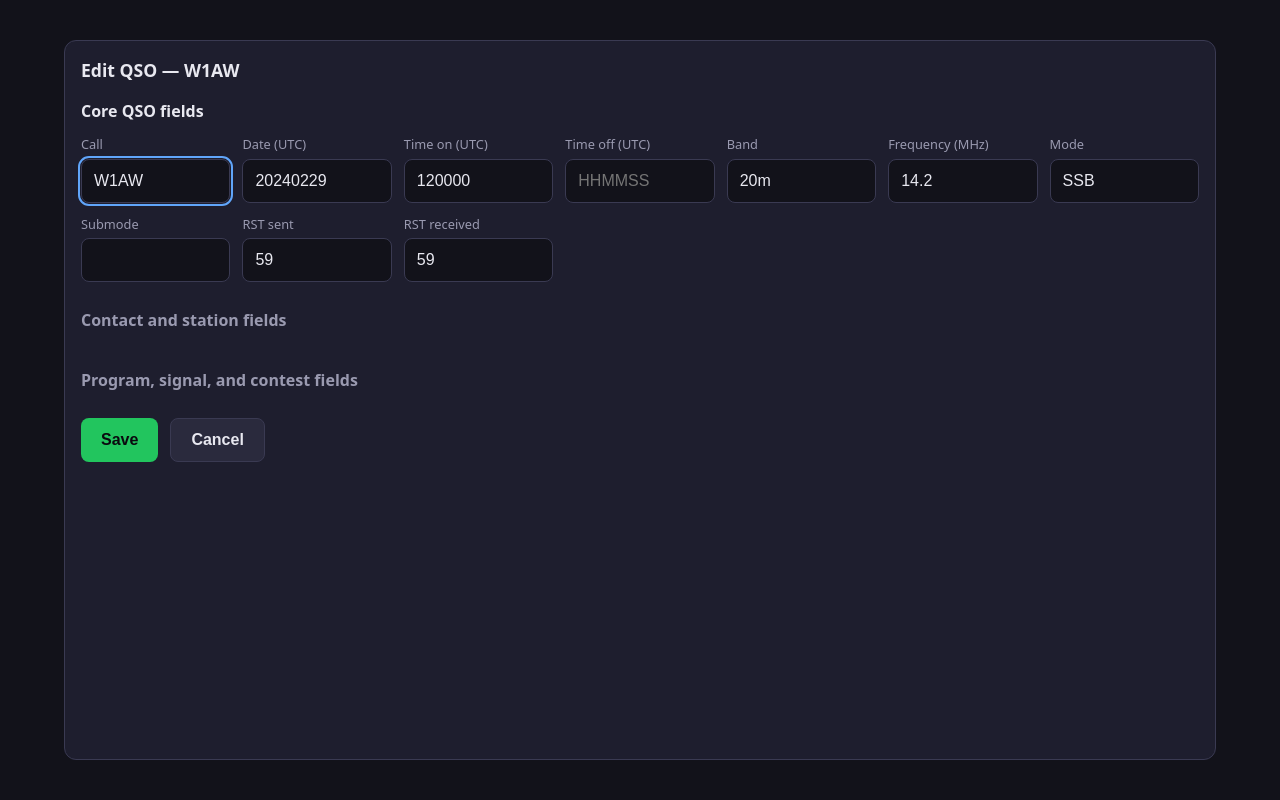
EditQsoModal › blocks invalid edits, retains values, and focuses the first error
Replace the text in the field labelled "Date (UTC)" with "20230229". click: [317, 181]
box: [242,159,392,203]
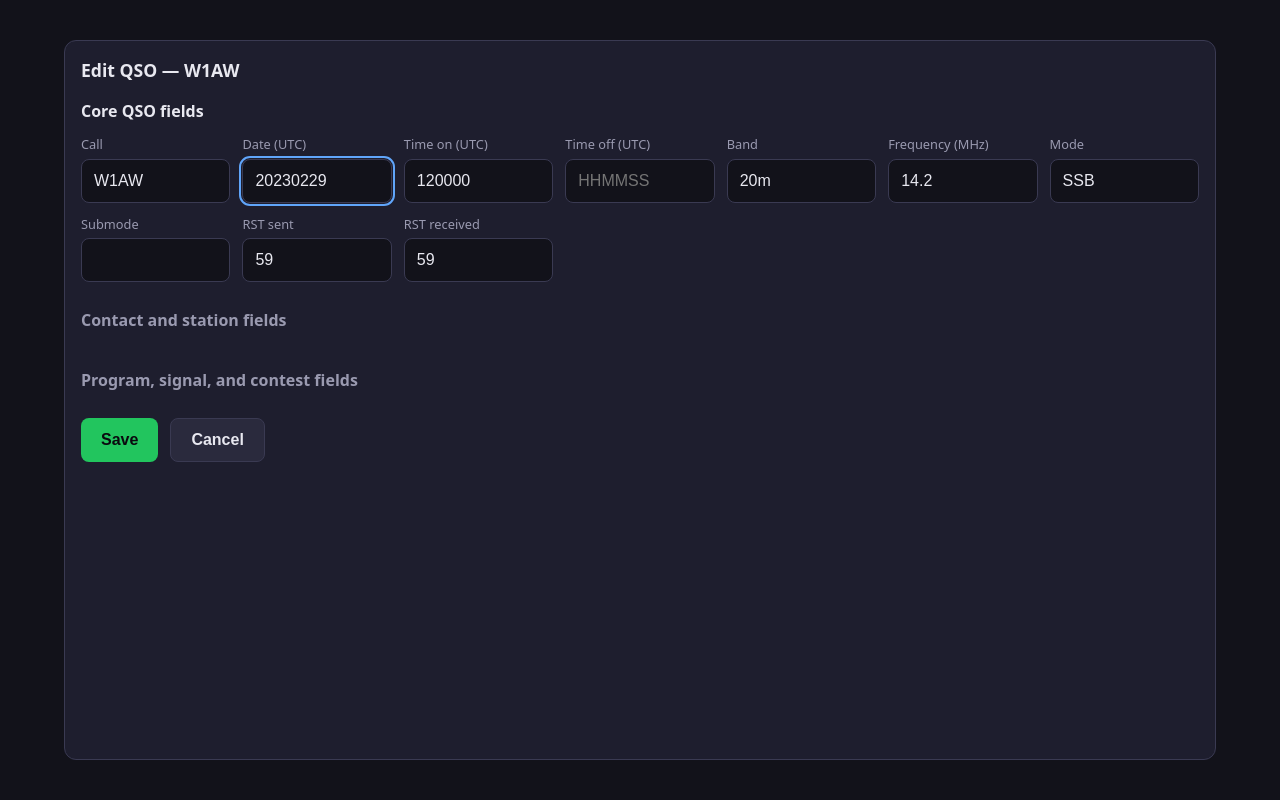
Replace the text in the number field labelled "Frequency (MHz)" with "0". click: [963, 181]
box: [888,159,1038,203]
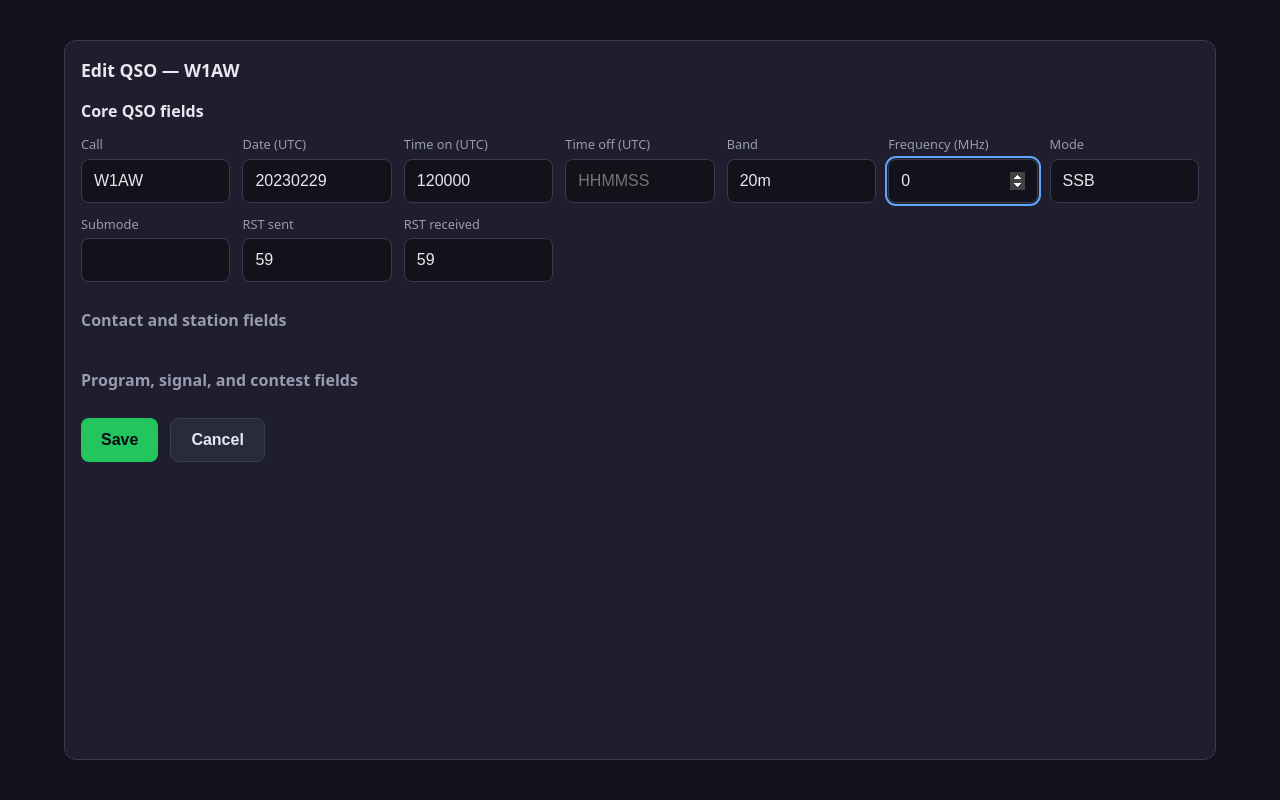
Click the button "Save". click: [120, 440]
box: [81,418,158,462]
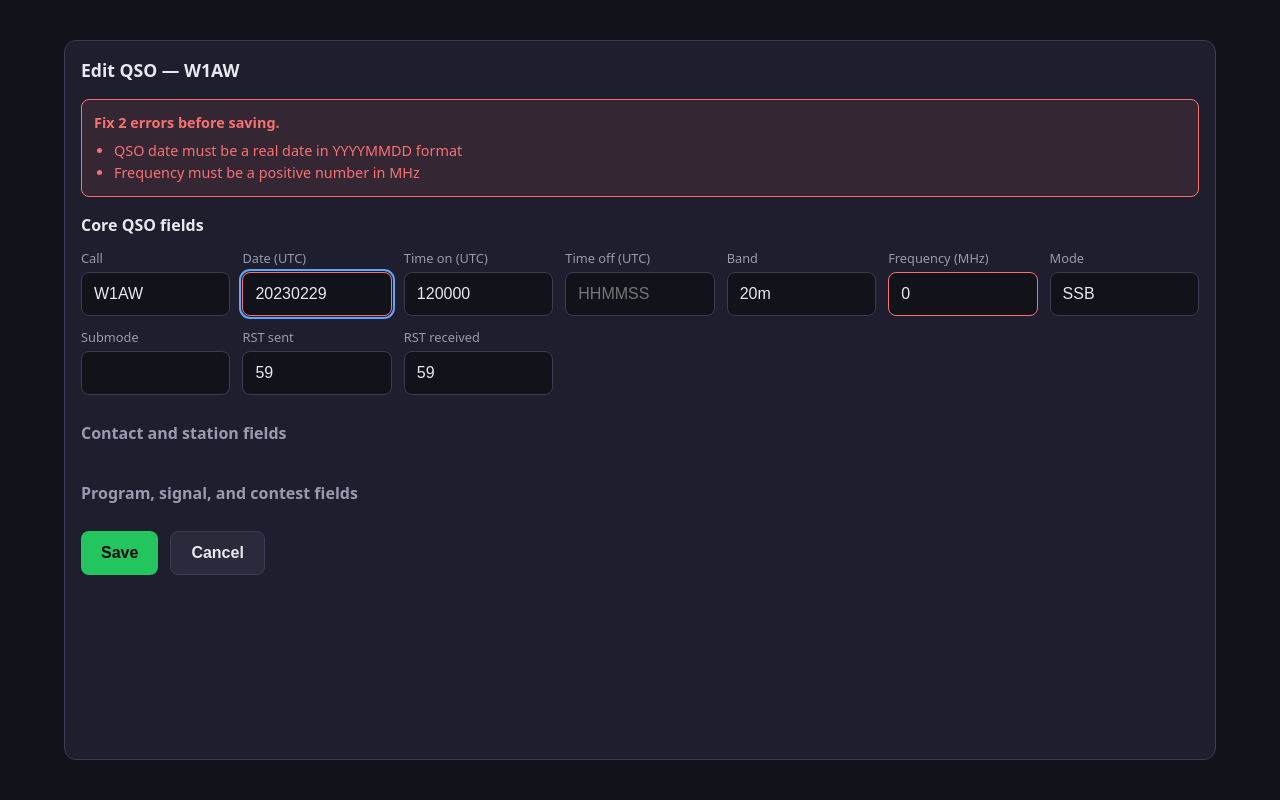
Check: the message shows "Fix 2 errors before saving", box [94,113,280,132]
Check: the list item "QSO date must be a real date in YYYYMMDD format" is shown, box [114,141,462,160]
Check: the list item "Frequency must be a positive number in MHz" is shown, box [114,163,420,182]
